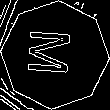M_E: (28, 30, 82, 80)
